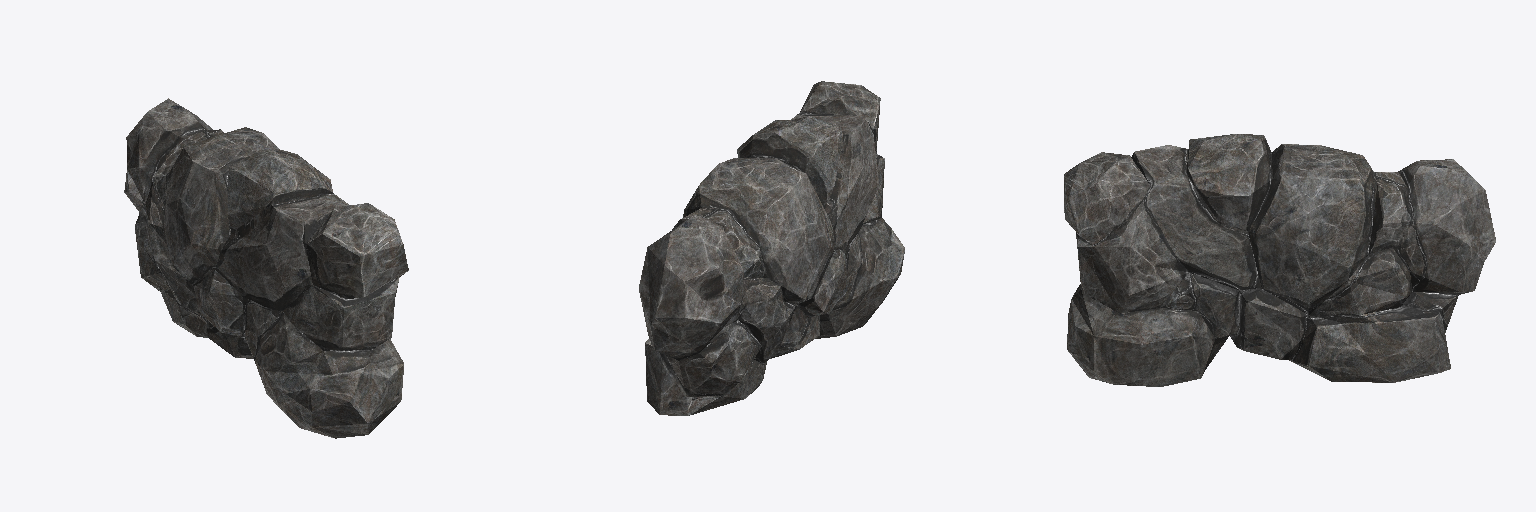
3 renders of one model, left to right at view 1: azimuth 30°, elevation 25°; view 2: azimuth 150°, elevation 25°; view 3: azimuth 270°, elevation 25°, orthographic.
Parts seen in each view (by area): view 1: Rocks_03; view 2: Rocks_03; view 3: Rocks_03.
Part boxes in pixels (x1,y1,x2,y2): Rocks_03: (124, 98, 408, 438); Rocks_03: (639, 81, 904, 415); Rocks_03: (1064, 134, 1495, 386).
Bounding box in the file's own units: 82.45 × 147 × 244.
Materials: 1 (1 with a texture image).